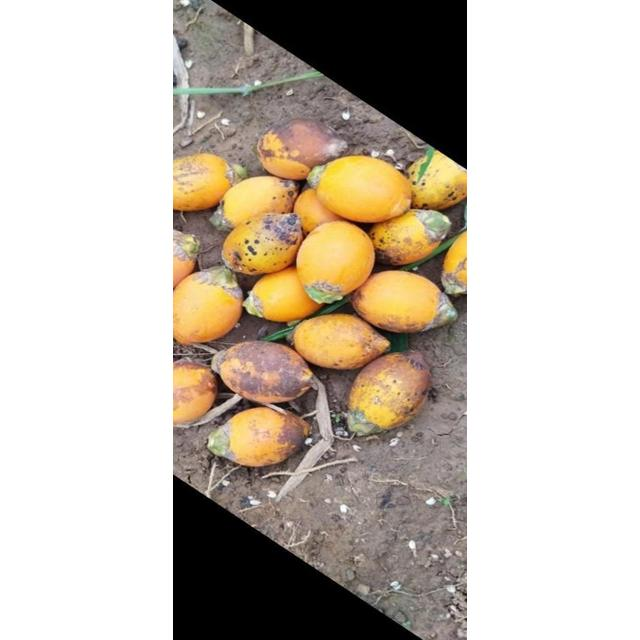good: (348, 354, 430, 434), (206, 408, 310, 467), (351, 272, 453, 332), (215, 341, 313, 403), (256, 118, 348, 178), (222, 212, 302, 276), (300, 226, 370, 292), (368, 210, 448, 266), (247, 268, 323, 324), (221, 176, 297, 226), (406, 149, 464, 211), (173, 154, 234, 210), (175, 362, 218, 424), (294, 188, 346, 234), (173, 226, 201, 294), (442, 228, 466, 294)
